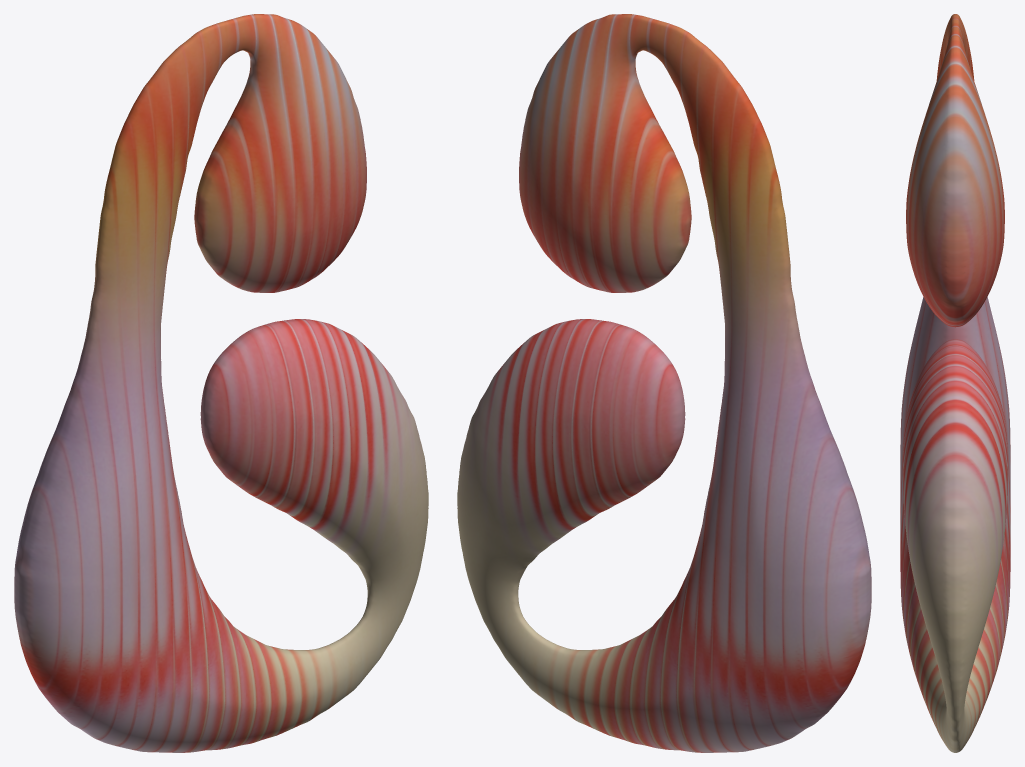
File: letterC.glb
3 renders of one model, left to right at view 1: azimuth 30°, elevation 25°; view 2: azimuth 150°, elevation 25°; view 3: azimuth 270°, elevation 25°, orthographic. The views are drawn at different scales.
Visible parts, largest first — view 1: Geometry; view 2: Geometry; view 3: Geometry.
Part boxes in pixels (x1,y1,x2,y2): Geometry: (14,14,428,752); Geometry: (457,14,871,752); Geometry: (900,14,1010,752).
Bounding box in the file's own units: 0.5853 × 1 × 0.1434.
1 material, 1 textured.
